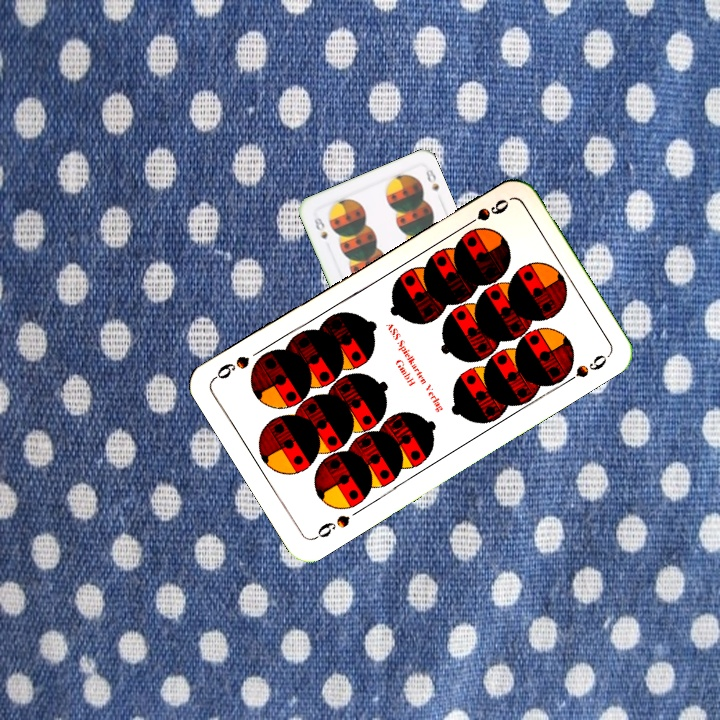S8: (310, 212, 330, 241)
S9: (458, 194, 512, 232), (310, 510, 353, 543)
